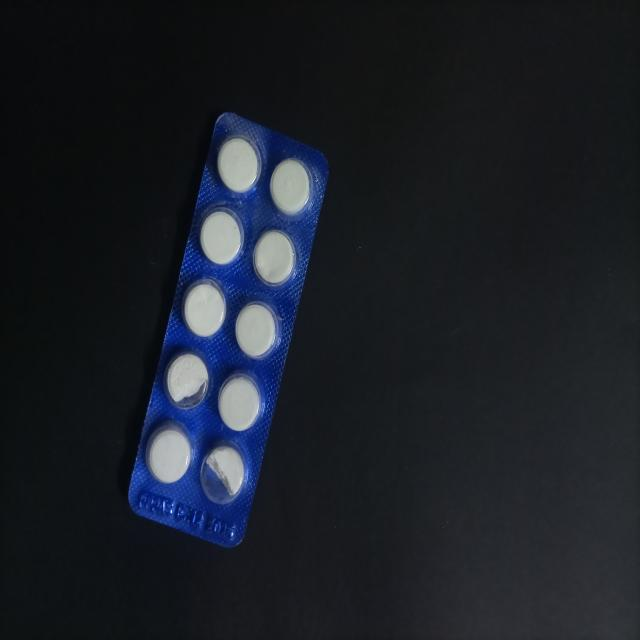defect: (199, 438, 249, 505), (163, 347, 212, 412)
